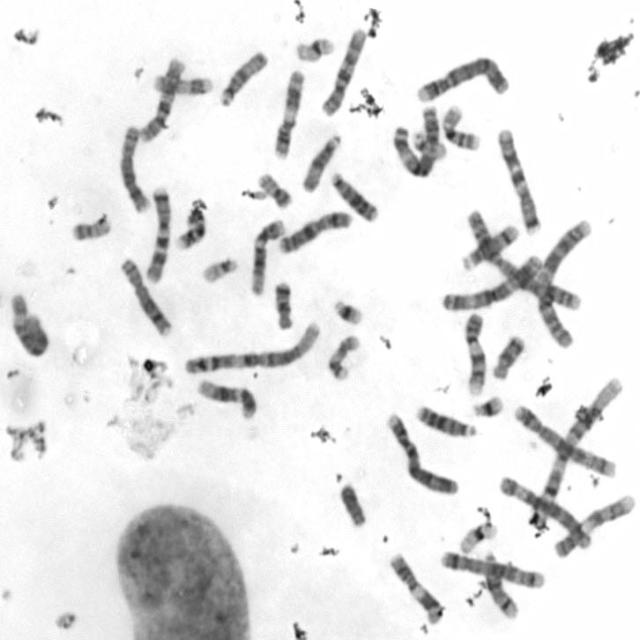A1: (536, 374, 626, 506), (180, 316, 324, 377)
A2: (462, 206, 584, 313), (532, 215, 592, 352)
A3: (438, 251, 544, 313), (388, 102, 442, 180)
B4: (383, 408, 460, 498), (414, 52, 511, 103)
B5: (511, 400, 618, 480), (437, 548, 546, 589)
C10: (135, 54, 187, 146), (318, 25, 368, 118)
C11: (386, 550, 444, 626), (270, 66, 307, 160)
C12: (246, 215, 286, 297), (194, 375, 258, 421)
C6: (496, 471, 592, 550), (9, 291, 52, 360)
C7: (493, 124, 542, 235), (142, 182, 173, 286)
C8: (116, 254, 174, 338), (116, 122, 151, 214)
C9: (550, 490, 638, 559), (461, 309, 488, 397)
D13: (327, 167, 380, 224), (412, 400, 477, 438)
D14: (457, 219, 522, 271), (482, 548, 520, 620)
D15: (216, 47, 268, 108), (298, 131, 343, 194)
E16: (439, 102, 482, 152), (171, 205, 211, 251)
E17: (324, 331, 362, 382), (149, 69, 212, 96)
E18: (489, 331, 526, 380), (272, 277, 294, 332)
F19: (456, 517, 499, 555), (291, 33, 336, 63)
F20: (254, 168, 293, 210), (69, 211, 113, 242)
G21: (329, 295, 365, 327), (468, 390, 506, 419)
G22: (197, 254, 240, 285), (409, 128, 449, 160)
X: (274, 207, 353, 255)
Y: (337, 480, 368, 528)
